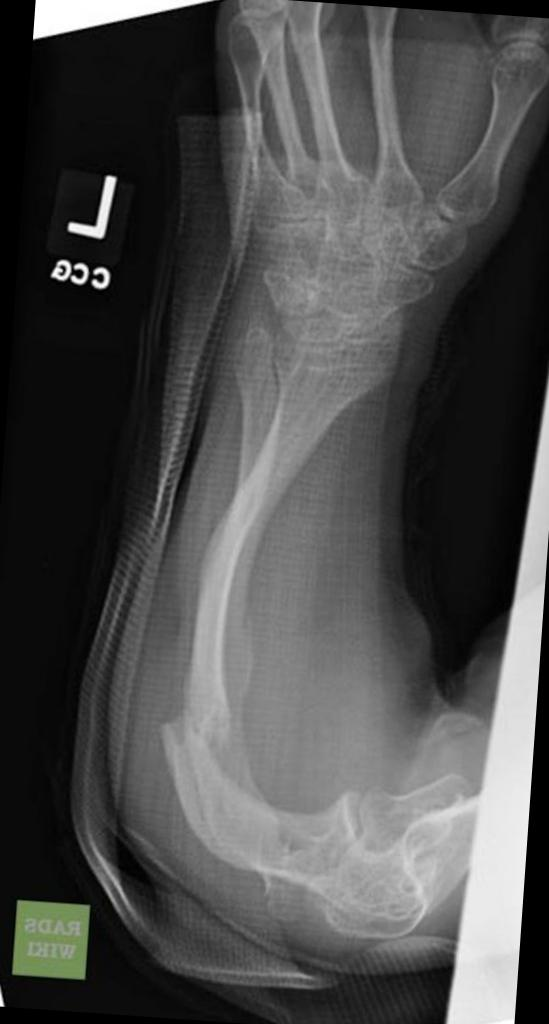fracture: (149, 688, 235, 784)
